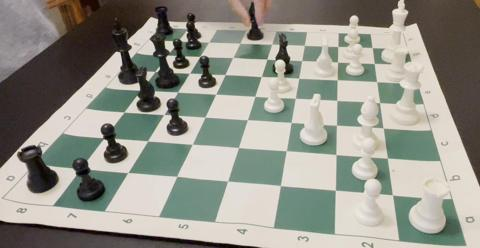xcorner: (333, 57, 344, 68), (277, 178, 287, 189), (100, 130, 110, 141), (143, 134, 154, 144), (282, 144, 293, 154), (244, 113, 254, 124), (332, 119, 343, 129), (251, 90, 261, 101), (291, 93, 302, 103), (151, 65, 161, 76), (257, 71, 268, 81), (372, 77, 383, 87), (163, 50, 174, 60), (300, 41, 311, 51), (76, 161, 86, 171), (124, 165, 134, 175), (173, 169, 183, 179), (224, 174, 234, 184), (331, 183, 341, 193), (388, 188, 398, 198), (188, 137, 198, 147), (235, 141, 245, 151), (332, 148, 342, 158), (383, 152, 393, 162), (120, 105, 130, 115), (160, 108, 170, 118), (201, 111, 211, 121), (287, 116, 297, 126), (379, 122, 389, 132), (137, 84, 147, 94), (174, 86, 184, 96), (212, 88, 222, 98), (333, 95, 343, 105), (375, 98, 385, 108), (186, 67, 196, 77), (221, 69, 231, 79), (295, 73, 305, 83), (333, 75, 343, 85), (196, 51, 206, 61), (229, 53, 239, 63), (263, 54, 273, 64), (298, 56, 308, 66), (370, 59, 380, 69), (174, 36, 184, 46), (205, 37, 215, 47), (236, 38, 246, 48), (268, 40, 278, 50), (334, 42, 344, 52), (368, 44, 378, 54)
